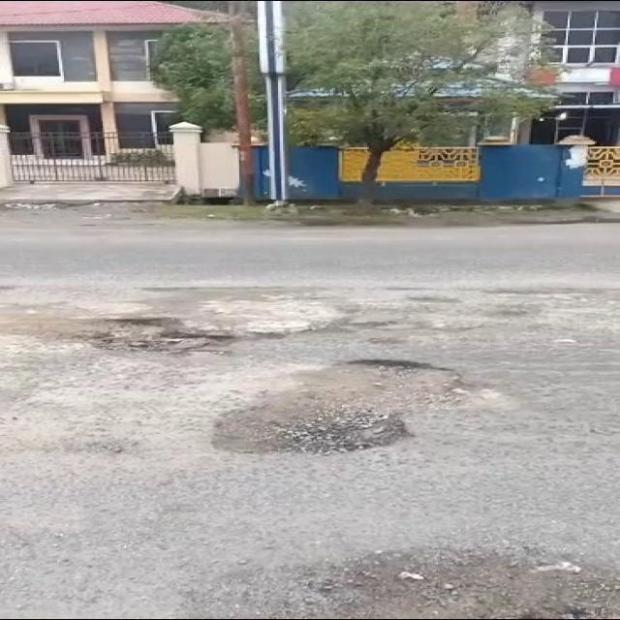lubang: (214, 360, 462, 452), (82, 317, 234, 354)
